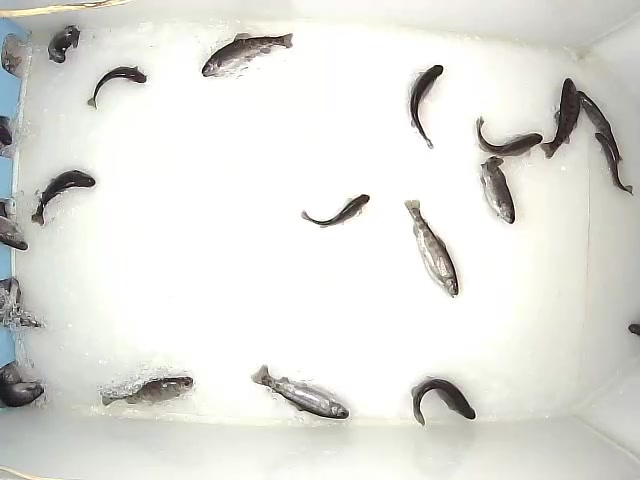fish: (249, 362, 351, 421), (403, 198, 460, 298), (200, 29, 295, 78), (29, 168, 97, 228), (575, 90, 625, 164), (409, 374, 477, 426), (539, 77, 581, 160), (100, 375, 195, 409), (409, 64, 444, 150), (474, 116, 543, 159), (86, 64, 147, 111), (594, 131, 635, 198), (479, 155, 516, 225), (300, 193, 371, 229), (47, 24, 81, 64)
